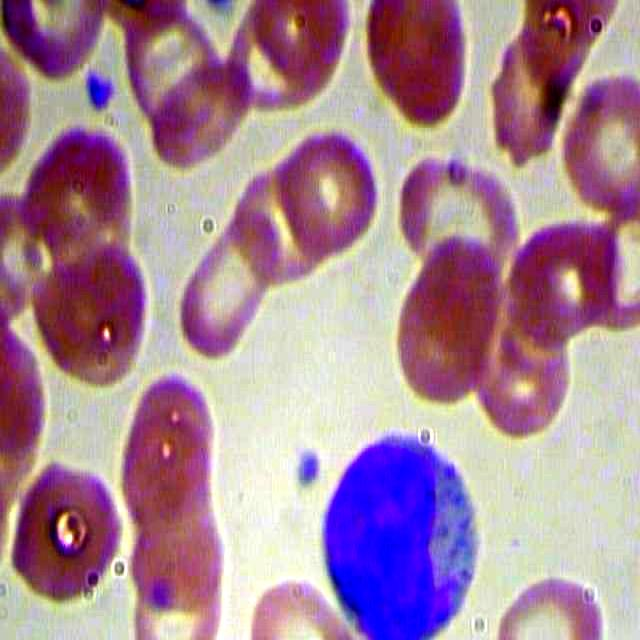Platelets: (79, 64, 115, 120), (295, 451, 325, 492)
RBC: (389, 233, 500, 418), (3, 461, 123, 619), (165, 204, 285, 361), (31, 236, 151, 393), (394, 152, 525, 289), (469, 281, 577, 439), (270, 124, 387, 263), (359, 1, 476, 139), (149, 57, 256, 176), (559, 68, 640, 224), (492, 564, 610, 639), (246, 577, 353, 640)
WBC: (318, 424, 487, 640)
